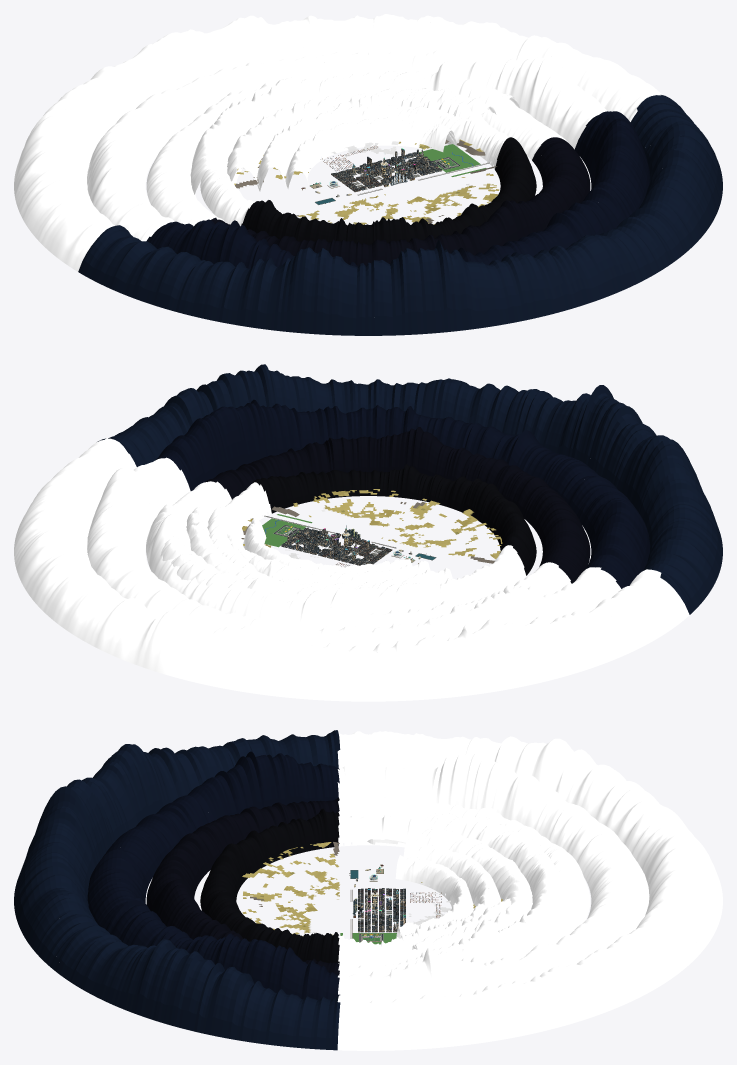
File: port-skyline.glb
The picture shows the model from 3 angles, top to bottom: view 1: azimuth 30°, elevation 25°; view 2: azimuth 150°, elevation 25°; view 3: azimuth 270°, elevation 25°; orthographic projection.
Parts seen in each view (by area): view 1: FC_Waterfront_North coping far -5,5, FC_Waterfront_North coping far -6,4, FC_Waterfront_North coping far -3,6, FC_Waterfront_North coping far -2,6, FC_Waterfront_North coping far -1,6, FC_Waterfront_North coping far -4,5, FC_Waterfront_North coping far -7,3, FC_Waterfront_North coping far 0,6, FC_Waterfront_North coping far -2,-7, FC_Waterfront_North coping far -4,6, FC_Waterfront_North coping far 2,-6, FC_Waterfront_North coping far 1,-2 (+124 smaller); view 2: FC_Waterfront_North coping far -4,-7, FC_Waterfront_North coping far -3,5, FC_Waterfront_North coping far -7,-4, FC_Waterfront_North coping far -6,-6, FC_Waterfront_North coping far 3,2, FC_Waterfront_North coping far 3,1, FC_Waterfront_North coping far -2,-8, FC_Waterfront_North coping far -7,-5, FC_Waterfront_North coping far -6,-5, FC_Waterfront_North coping far -5,-6, FC_Waterfront_North coping far -1,-8, FC_Waterfront_North coping far 0,3 (+132 smaller); view 3: FC_Waterfront_North coping far 5,2, FC_Waterfront_North coping far 5,3, FC_Waterfront_North coping far 4,4, FC_Waterfront_North coping far 5,-4, FC_Waterfront_North coping far -5,2, FC_Waterfront_North coping far -5,-3, FC_Waterfront_North coping far -5,4, FC_Waterfront_North coping far 4,1, FC_Waterfront_North coping far 6,0, FC_Waterfront_North coping far 6,-1, FC_Waterfront_North coping far 6,-2, FC_Waterfront_North coping far -3,5 (+128 smaller).
Boxes of the visible parts, <box> form: FC_Waterfront_North coping far -5,5: <box>309,260,377,335</box>; FC_Waterfront_North coping far -6,4: <box>242,254,309,332</box>; FC_Waterfront_North coping far -3,6: <box>420,246,480,333</box>; FC_Waterfront_North coping far -2,6: <box>461,256,526,327</box>; FC_Waterfront_North coping far -1,6: <box>505,250,569,319</box>; FC_Waterfront_North coping far -4,5: <box>352,248,417,335</box>; FC_Waterfront_North coping far -7,3: <box>178,263,242,323</box>; FC_Waterfront_North coping far 0,6: <box>551,241,607,309</box>; FC_Waterfront_North coping far -2,-7: <box>146,31,207,83</box>; FC_Waterfront_North coping far -4,6: <box>380,271,429,335</box>; FC_Waterfront_North coping far 2,-6: <box>338,14,403,55</box>; FC_Waterfront_North coping far 1,-2: <box>395,99,459,150</box>; FC_Waterfront_North coping far -4,-7: <box>308,642,374,701</box>; FC_Waterfront_North coping far -3,5: <box>566,385,619,467</box>; FC_Waterfront_North coping far -7,-4: <box>509,616,578,682</box>; FC_Waterfront_North coping far -6,-6: <box>420,640,483,699</box>; FC_Waterfront_North coping far 3,2: <box>231,399,299,460</box>; FC_Waterfront_North coping far 3,1: <box>205,407,269,479</box>; FC_Waterfront_North coping far -2,-8: <box>210,637,263,694</box>; FC_Waterfront_North coping far -7,-5: <box>485,629,540,692</box>; FC_Waterfront_North coping far -6,-5: <box>443,618,511,693</box>; FC_Waterfront_North coping far -5,-6: <box>377,635,443,700</box>; FC_Waterfront_North coping far -1,-8: <box>168,630,222,685</box>; FC_Waterfront_North coping far 0,3: <box>384,427,443,475</box>; FC_Waterfront_North coping far 5,2: <box>204,962,255,1037</box>; FC_Waterfront_North coping far 5,3: <box>155,959,206,1033</box>; FC_Waterfront_North coping far 4,4: <box>105,945,157,1017</box>; FC_Waterfront_North coping far 5,-4: <box>499,980,552,1037</box>; FC_Waterfront_North coping far -5,2: <box>203,753,256,819</box>; FC_Waterfront_North coping far -5,-3: <box>451,757,501,814</box>; FC_Waterfront_North coping far -5,4: <box>105,744,158,817</box>; FC_Waterfront_North coping far 4,1: <box>254,939,304,999</box>; FC_Waterfront_North coping far 6,0: <box>303,1002,354,1050</box>; FC_Waterfront_North coping far 6,-1: <box>352,1005,404,1050</box>; FC_Waterfront_North coping far 6,-2: <box>400,1004,452,1050</box>; FC_Waterfront_North coping far -3,5: <box>55,781,108,863</box>.
Bounding box in the file's own units: 6048 × 713 × 6048.
Materials: 15 (15 with a texture image).
